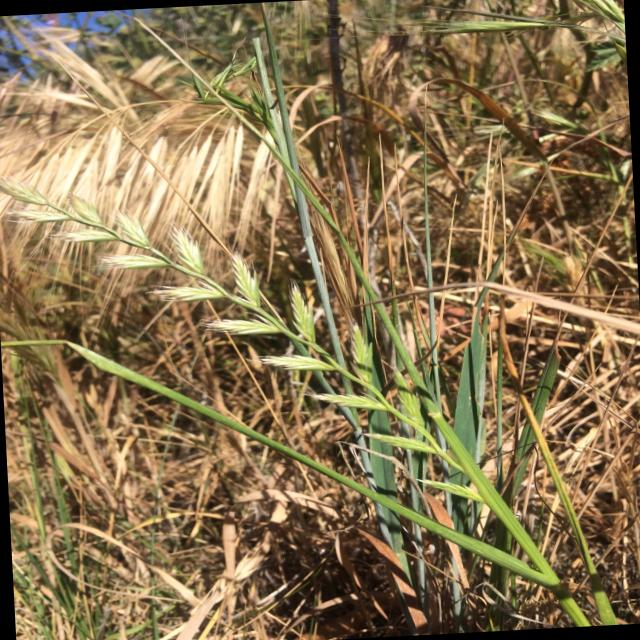Lolium: (0, 149, 490, 522)
